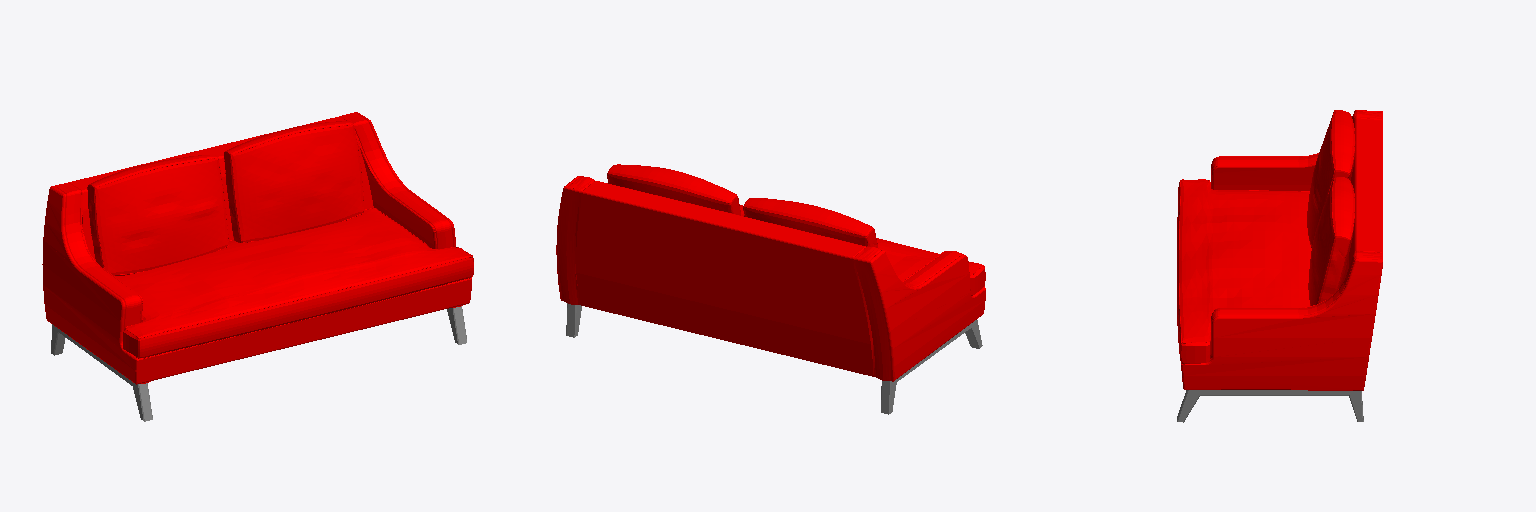
File: 2personsofa.obj
3 renders of one model, left to right at view 1: azimuth 30°, elevation 25°; view 2: azimuth 150°, elevation 25°; view 3: azimuth 270°, elevation 25°, orthographic.
Visible parts, largest first — view 1: z9n; view 2: z9n; view 3: z9n.
Boxes of the visible parts, <box> form: z9n: <box>42,112,473,421</box>; z9n: <box>556,164,985,414</box>; z9n: <box>1177,110,1382,422</box>.
Bounding box in the file's own units: 4.99 × 2.49 × 2.64.